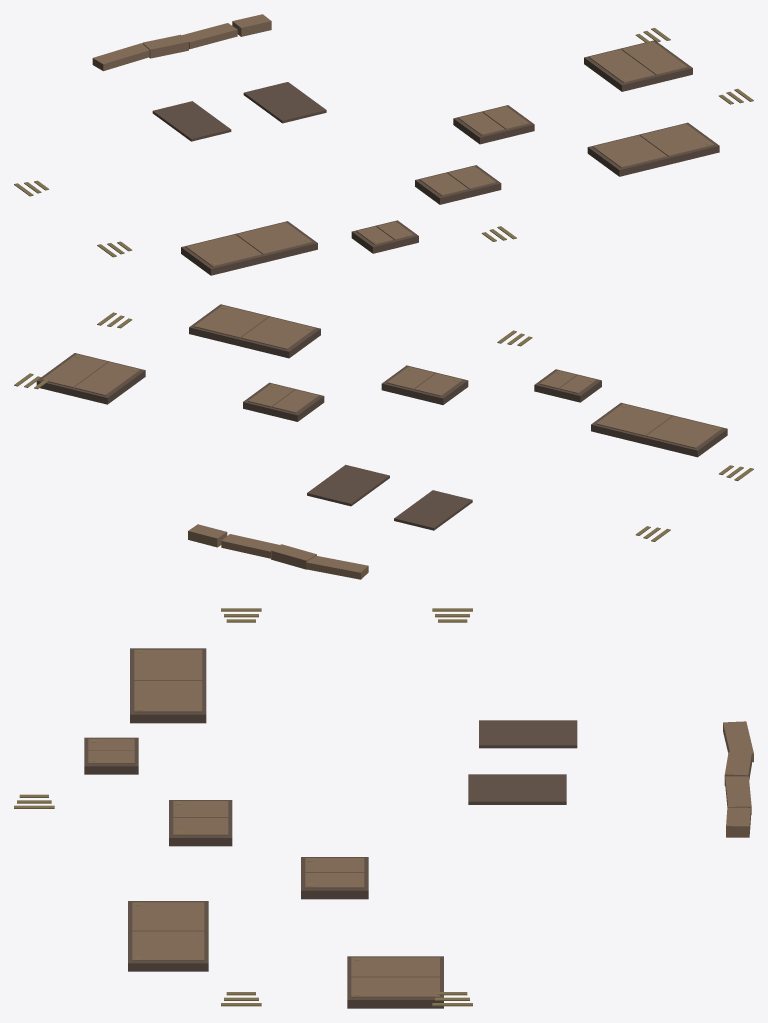
The model's file is R11-architecture.glb.
3 renders of one model, top to bottom at view 1: azimuth 30°, elevation 25°; view 2: azimuth 150°, elevation 25°; view 3: azimuth 270°, elevation 25°, orthographic. The views are drawn at different scales.
Parts seen in each view (by area): view 1: Deck rail • tie.001, Deck rail • tie, Bypass footing • bedding, Splice table footing • bedding, Bypass footing • seat 1, Bypass footing • seat 2, Splice table footing • seat 2, Splice table footing • seat 1, Survey tripod pad • bedding, Survey tripod pad • seat 1, Survey tripod pad • seat 2, Permit stand anchor • bedding (+10 smaller); view 2: Deck rail • tie.001, Deck rail • tie, Bypass footing • bedding, Splice table footing • bedding, Bypass footing • seat 1, Bypass footing • seat 2, Splice table footing • seat 2, Splice table footing • seat 1, Survey tripod pad • bedding, Survey tripod pad • seat 1, Survey tripod pad • seat 2, Permit stand anchor • bedding (+10 smaller); view 3: Deck rail • tie.001, Deck rail • tie, Bypass footing • seat 2, Bypass footing • seat 1, Splice table footing • seat 2, Splice table footing • seat 1, Survey tripod pad • seat 1, Survey tripod pad • seat 2, Bypass footing • bedding, Splice table footing • bedding, Survey tripod pad • bedding, Control post anchor • bedding (+10 smaller).
Part boxes in pixels (<box>): Deck rail • tie.001: <box>243,82,326,123</box>; Deck rail • tie: <box>152,101,231,141</box>; Bypass footing • bedding: <box>181,221,317,275</box>; Splice table footing • bedding: <box>587,122,719,176</box>; Bypass footing • seat 1: <box>186,234,262,266</box>; Bypass footing • seat 2: <box>236,222,312,254</box>; Splice table footing • seat 2: <box>640,124,714,156</box>; Splice table footing • seat 1: <box>593,135,667,167</box>; Survey tripod pad • bedding: <box>584,40,692,91</box>; Survey tripod pad • seat 1: <box>589,49,655,83</box>; Survey tripod pad • seat 2: <box>621,41,687,75</box>; Permit stand anchor • bedding: <box>415,165,501,204</box>; Deck rail • tie.001: <box>307,464,389,506</box>; Deck rail • tie: <box>394,490,472,530</box>; Bypass footing • bedding: <box>591,402,727,457</box>; Splice table footing • bedding: <box>189,304,320,358</box>; Bypass footing • seat 1: <box>646,416,722,448</box>; Bypass footing • seat 2: <box>596,404,672,436</box>; Splice table footing • seat 2: <box>194,305,268,337</box>; Splice table footing • seat 1: <box>241,317,315,349</box>; Survey tripod pad • bedding: <box>36,353,145,404</box>; Survey tripod pad • seat 1: <box>74,362,140,395</box>; Survey tripod pad • seat 2: <box>42,354,107,387</box>; Permit stand anchor • bedding: <box>381,365,468,404</box>; Deck rail • tie.001: <box>468,774,566,804</box>; Deck rail • tie: <box>479,720,577,748</box>; Bypass footing • seat 2: <box>134,680,202,712</box>; Bypass footing • seat 1: <box>134,649,202,680</box>; Splice table footing • seat 2: <box>132,931,204,960</box>; Splice table footing • seat 1: <box>132,902,204,931</box>; Survey tripod pad • seat 1: <box>351,957,439,977</box>; Survey tripod pad • seat 2: <box>351,977,439,997</box>; Bypass footing • bedding: <box>130,648,206,723</box>; Splice table footing • bedding: <box>128,901,208,971</box>; Survey tripod pad • bedding: <box>347,956,443,1008</box>; Control post anchor • bedding: <box>301,857,368,899</box>.
Size of the model in its own units: 11.57 by 0.188 by 9.11.
